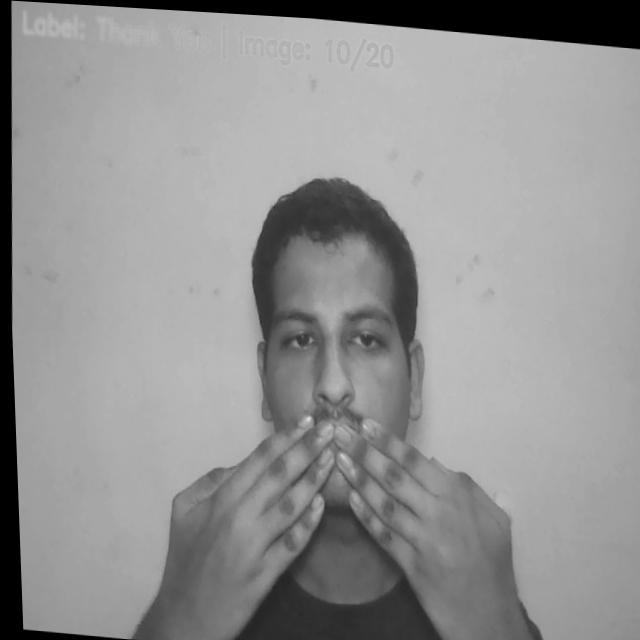Thank You: (155, 397, 510, 621)
